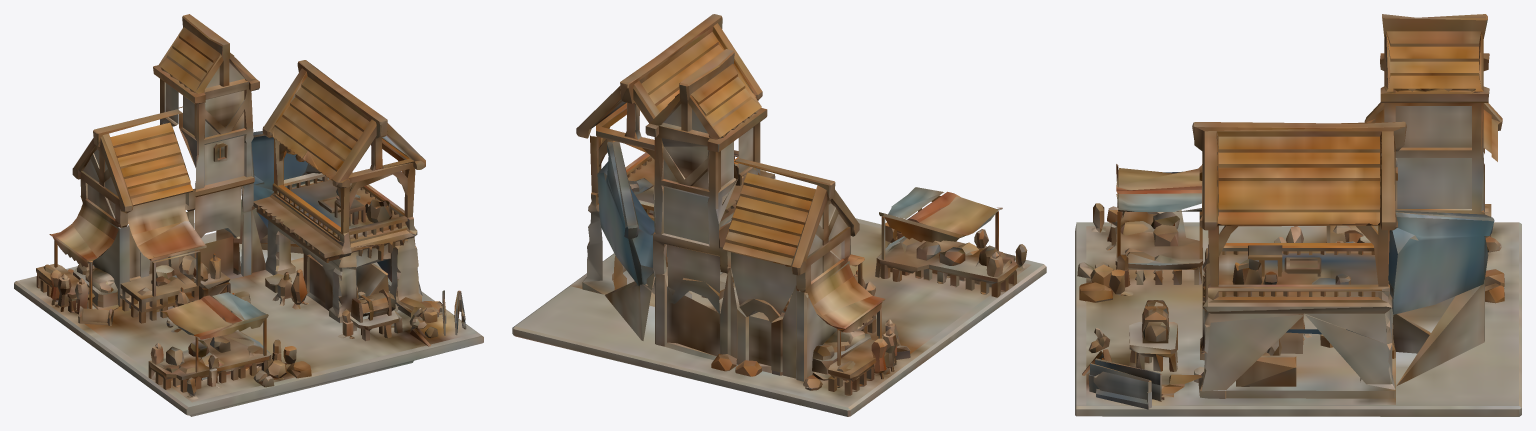
Rendered from pasar_1_lod2.glb.
3 views of the same model, side by side, from view 1: azimuth 30°, elevation 25°; view 2: azimuth 150°, elevation 25°; view 3: azimuth 270°, elevation 25° (orthographic). The views are drawn at different scales.
Visible parts, largest first — view 1: tripo_node_656f9fd4; view 2: tripo_node_656f9fd4; view 3: tripo_node_656f9fd4.
Part boxes in pixels (box(x1,y1,x2,y2)): tripo_node_656f9fd4: box(14, 14, 483, 416); tripo_node_656f9fd4: box(512, 14, 1046, 416); tripo_node_656f9fd4: box(1075, 14, 1521, 416).
Bounding box in the file's own units: 1 × 0.7794 × 0.9908.
1 material, 1 textured.
